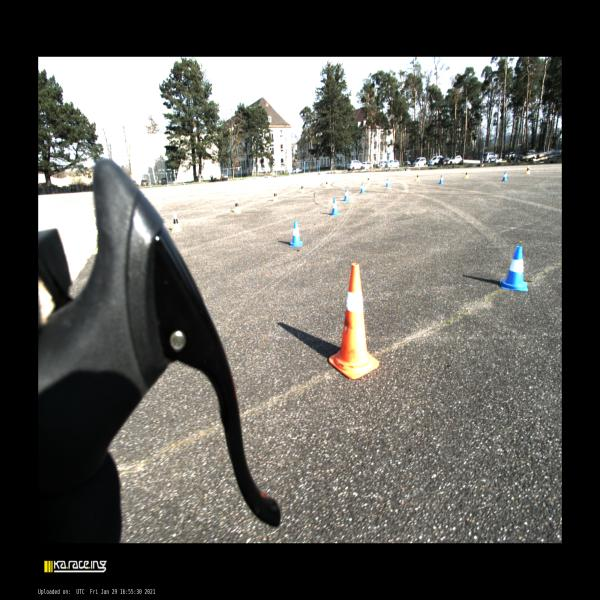blue_cone: (500, 245, 528, 292), (289, 220, 303, 247), (330, 198, 340, 215), (342, 188, 349, 200), (438, 174, 444, 184), (360, 182, 365, 193), (502, 171, 507, 181), (385, 178, 390, 186)
large_orange_cone: (328, 262, 379, 380)
yellow_cone: (171, 212, 182, 232), (234, 198, 241, 214), (272, 189, 278, 201), (525, 165, 530, 174), (415, 173, 420, 181), (464, 170, 469, 178), (325, 180, 329, 188), (366, 176, 370, 183), (301, 183, 304, 192)
